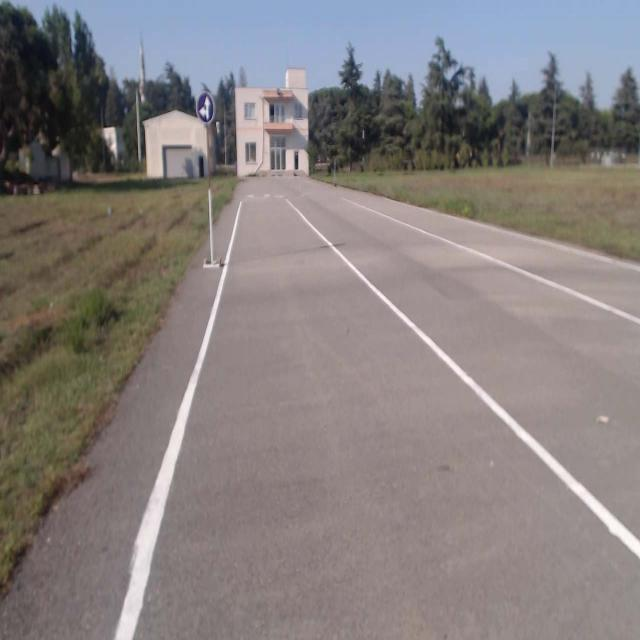ilerisol: (196, 92, 215, 124)
